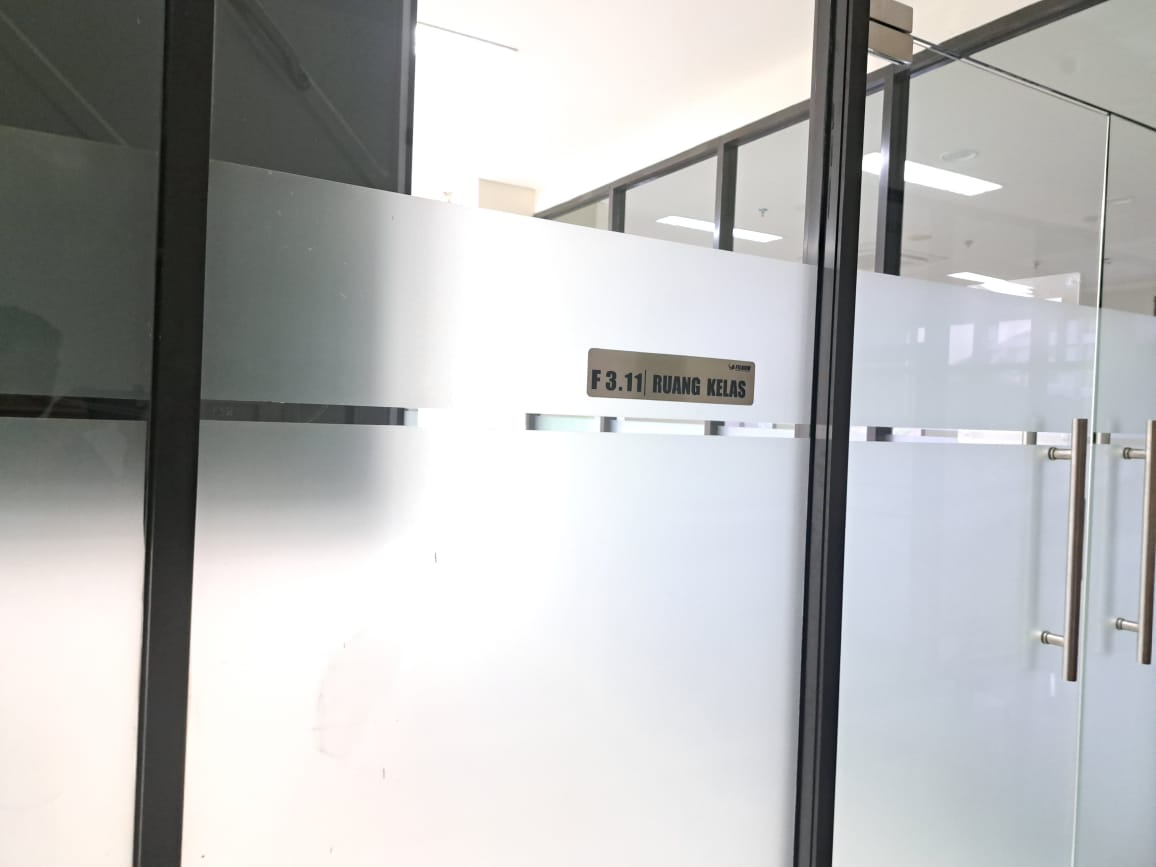ruangan: (587, 346, 757, 410)
